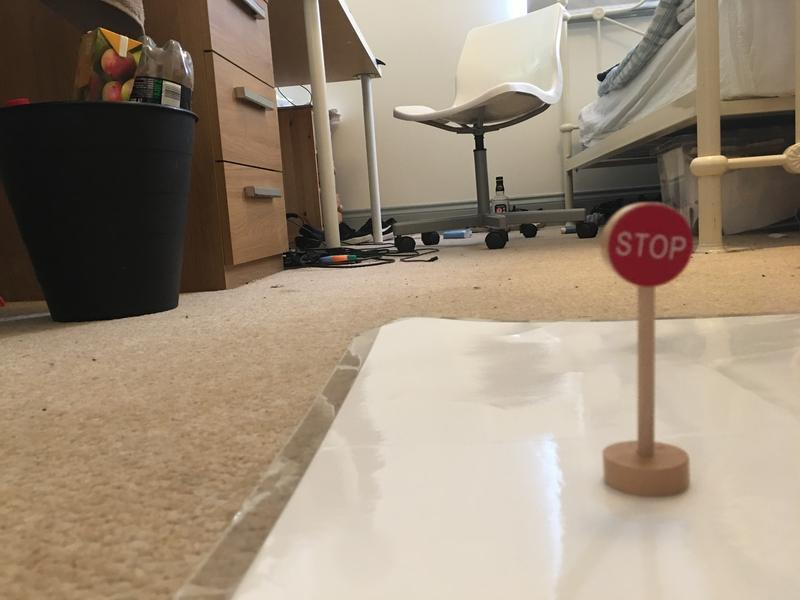Traffic_Sign_Stop: (609, 204, 689, 287)
